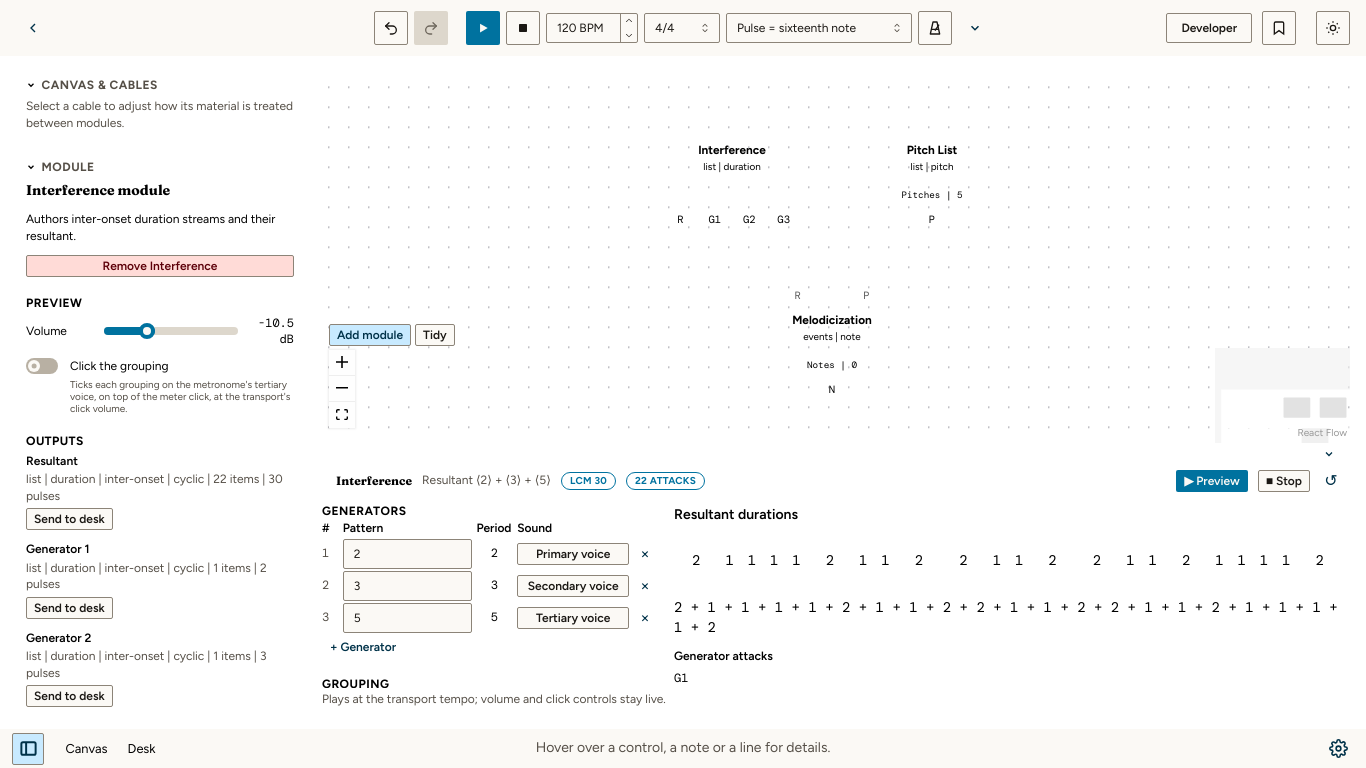
Test: CompositionWorkbenchPage › keeps a removed source visibly missing at its receiver
This screenshot has width=1366, height=768.
Step 1. Click the button "Melodicization events | note Notes | 0" → (832, 342), box [758,304,906,381]
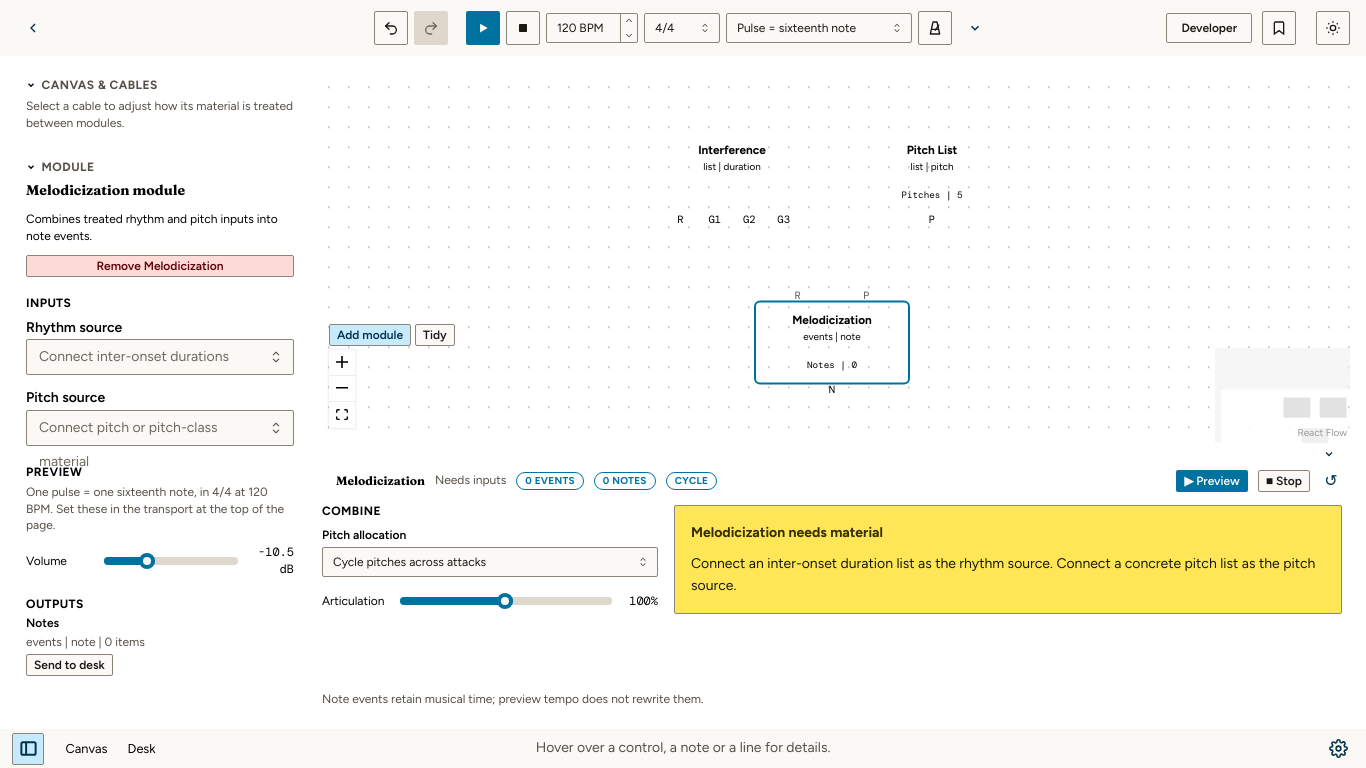
Step 2. Click the button named "Pitch source" → (160, 428), box [26,410,294,446]
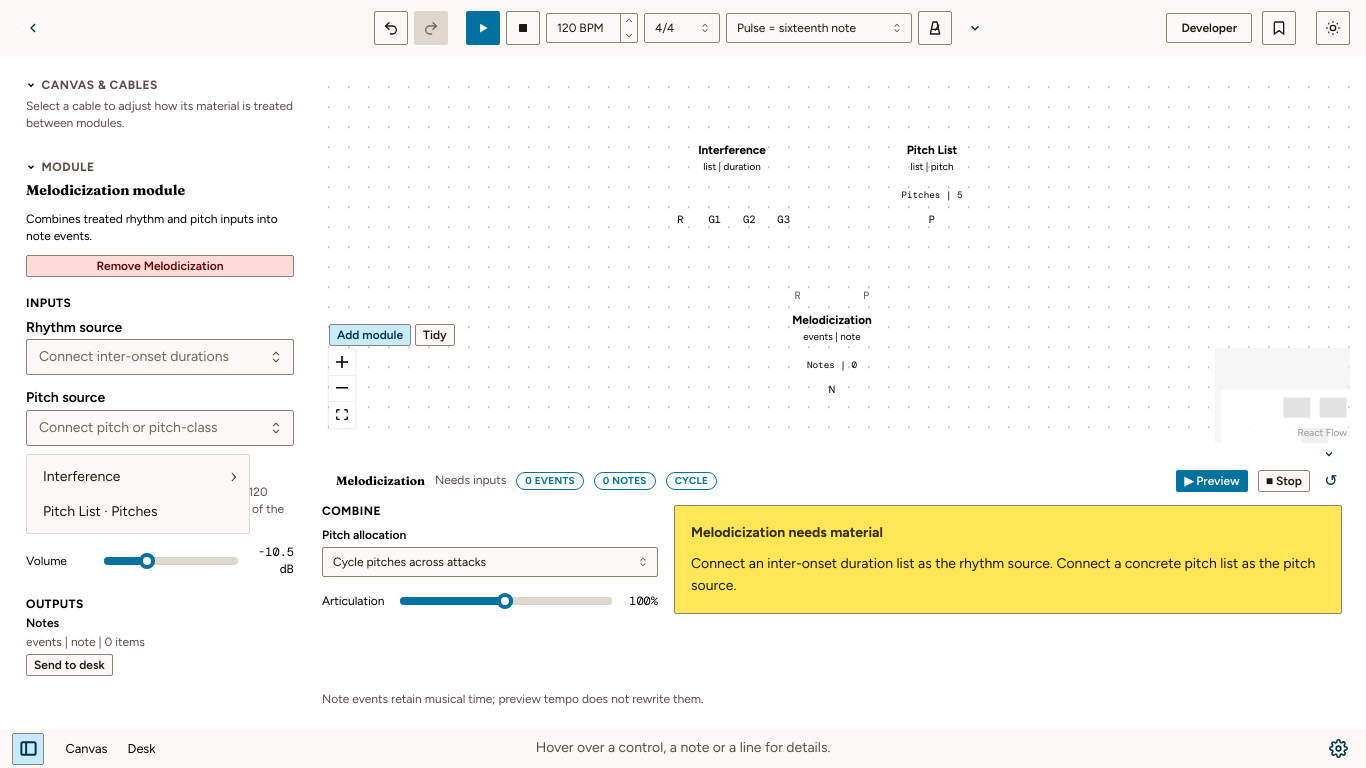
Step 3. Click the menu item "Pitch List · Pitches" → (138, 512), box [31,494,245,529]
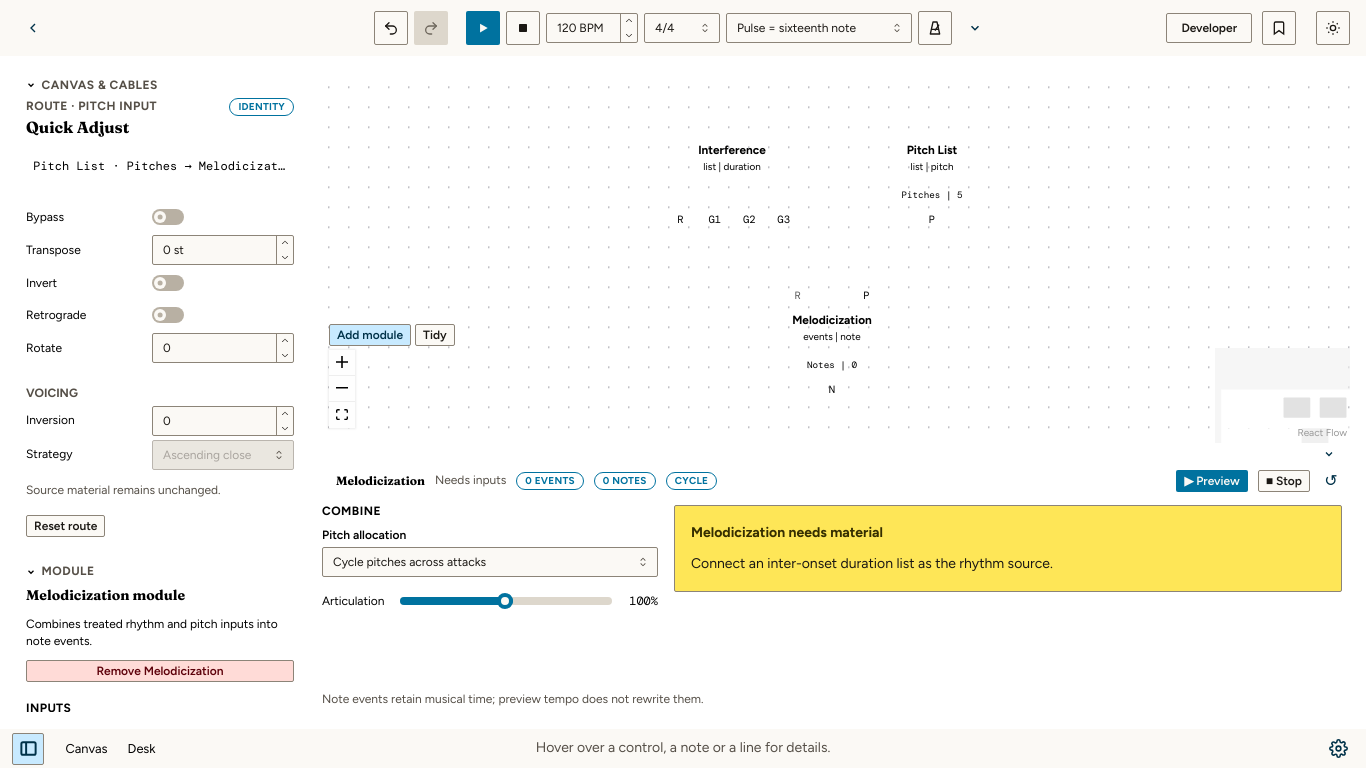
Step 4. Click the button "Pitch List list | pitch Pitches | 5" → (932, 172), box [858,134,1006,211]
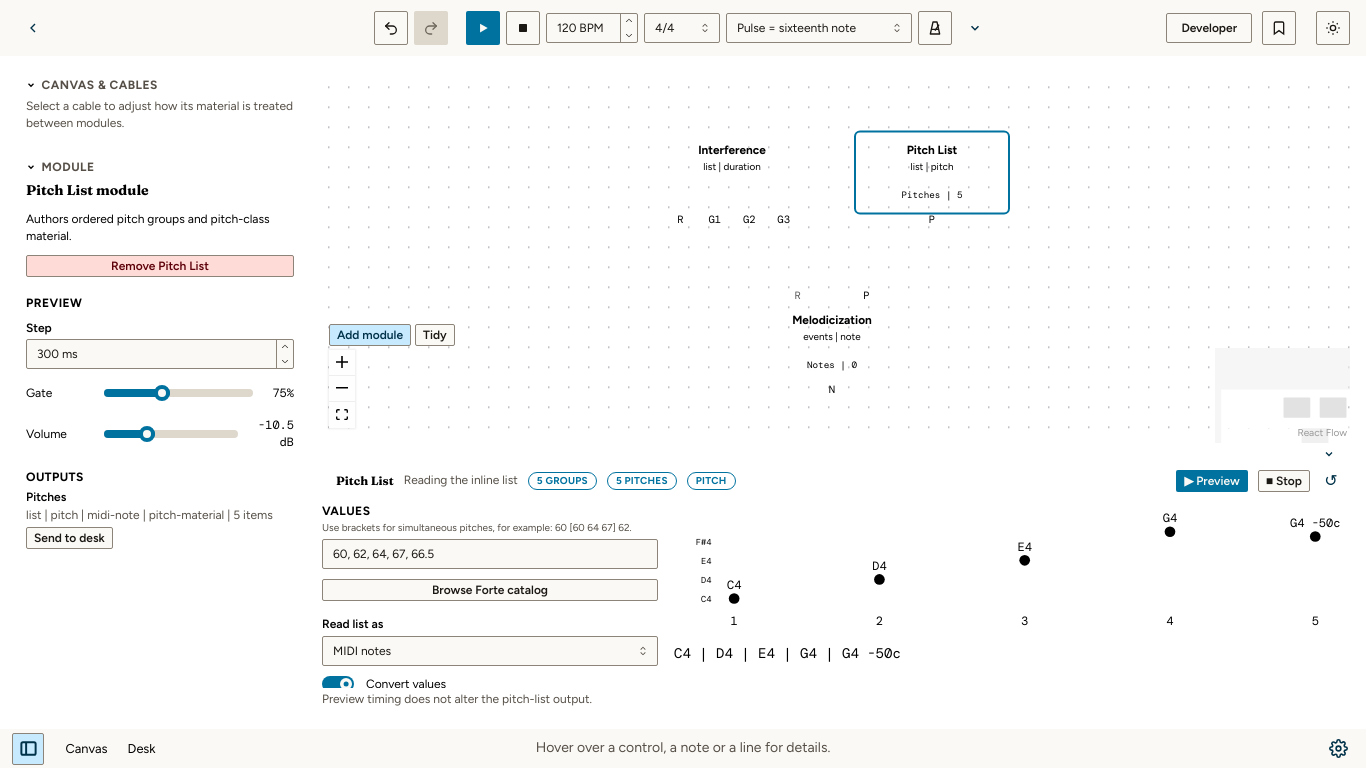
Step 5. Click the button "Remove Pitch List" → (160, 266), box [26,255,294,277]
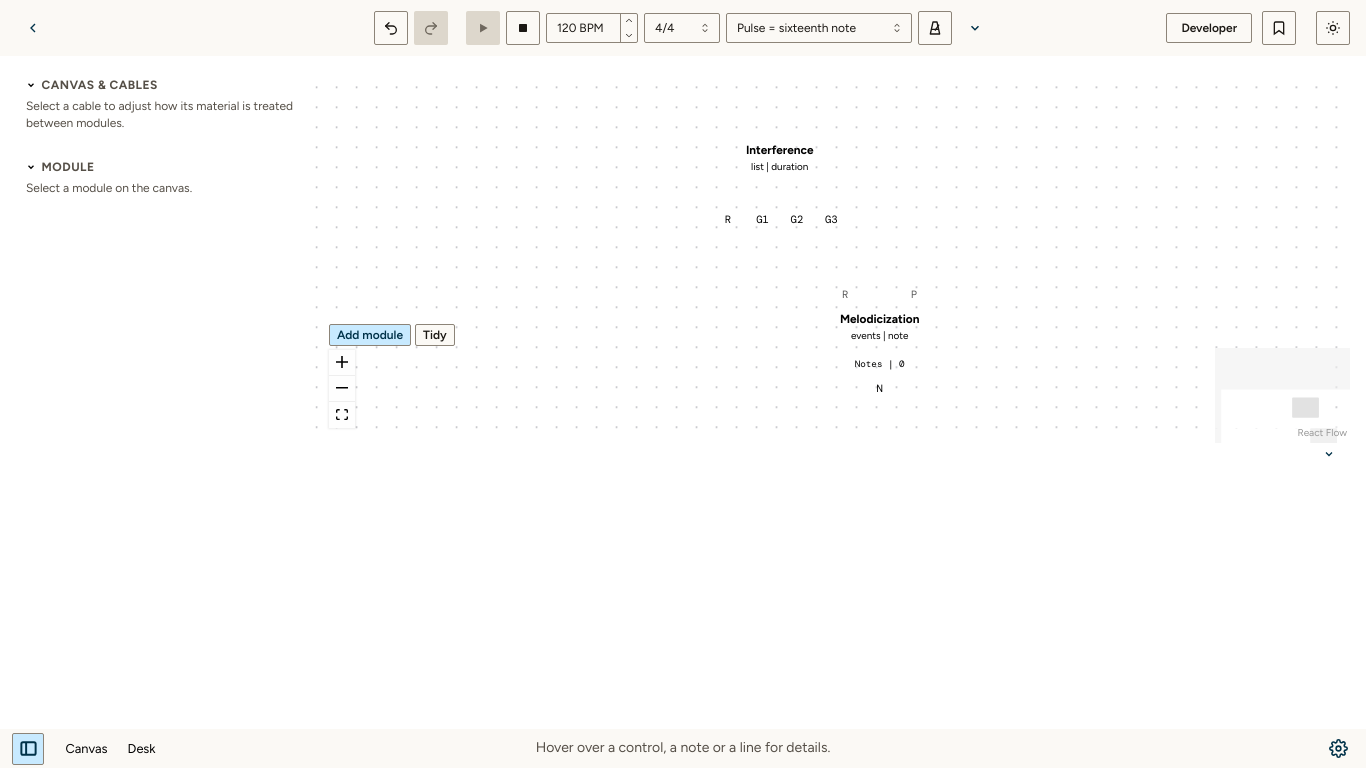
Step 6. Click the button "Melodicization events | note Notes | 0" → (880, 342), box [806,304,954,381]
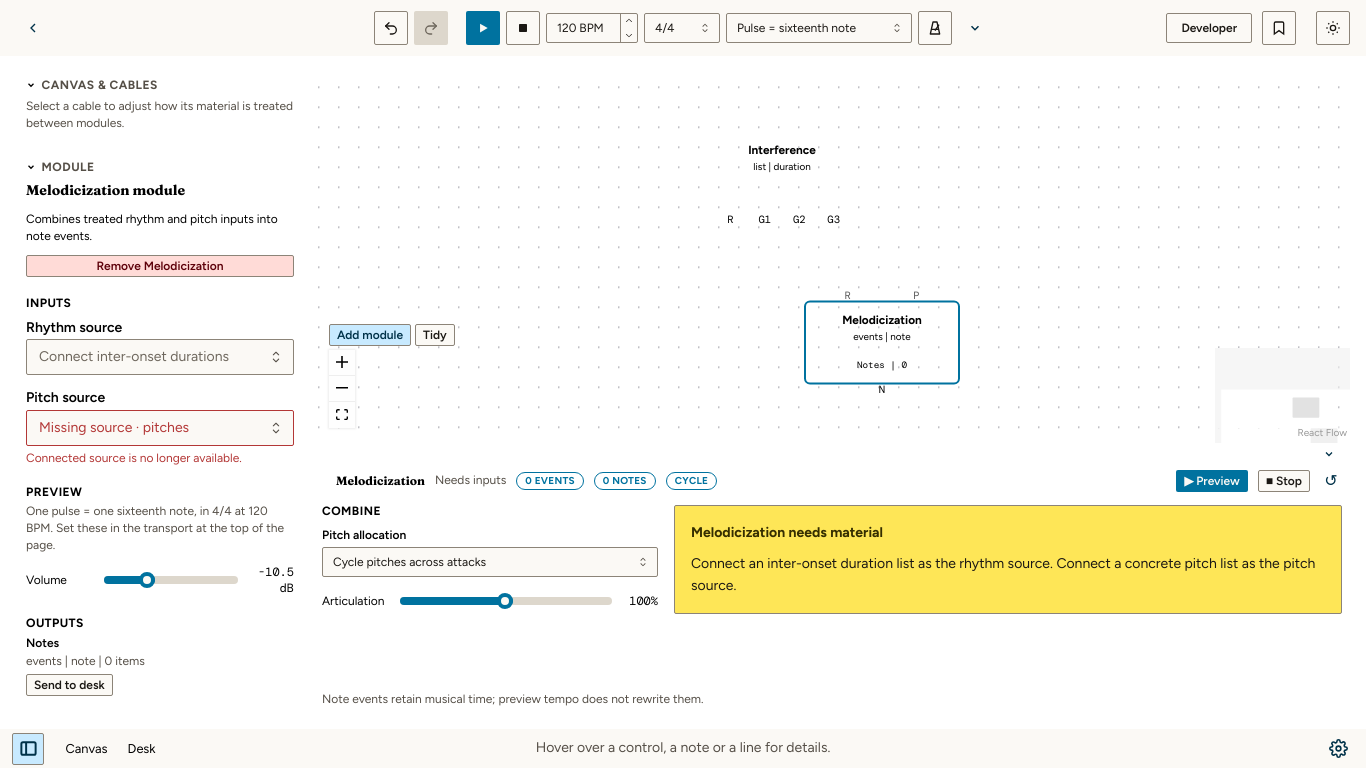
expect the button named "Pitch source" reads "Missing source · pitches": met, box [26,410,294,446]
expect the text "Connected source is no longer available." is shown: met, box [26,451,242,465]
